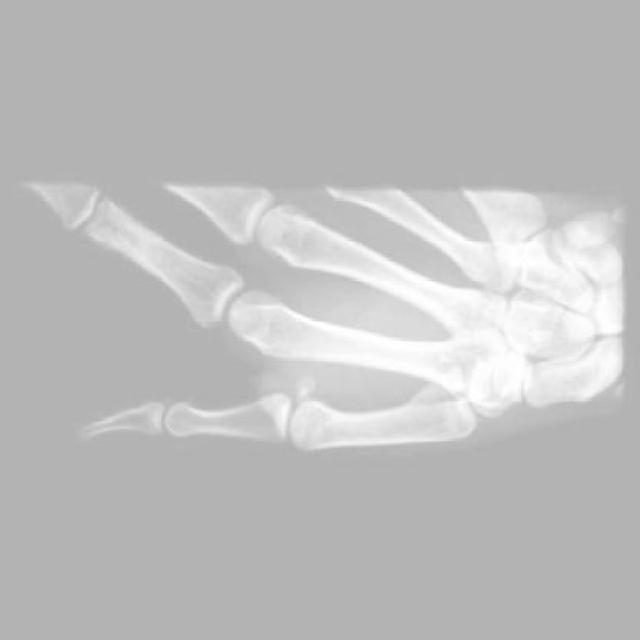Fracture: (399, 380, 468, 433)
